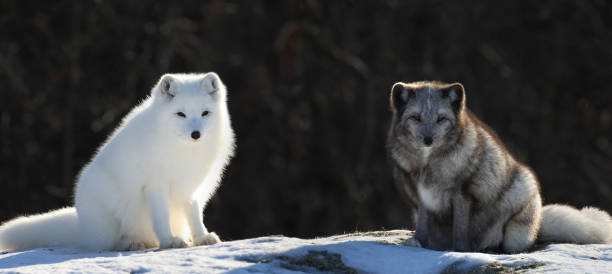arcticfox: (157, 86, 224, 164)
